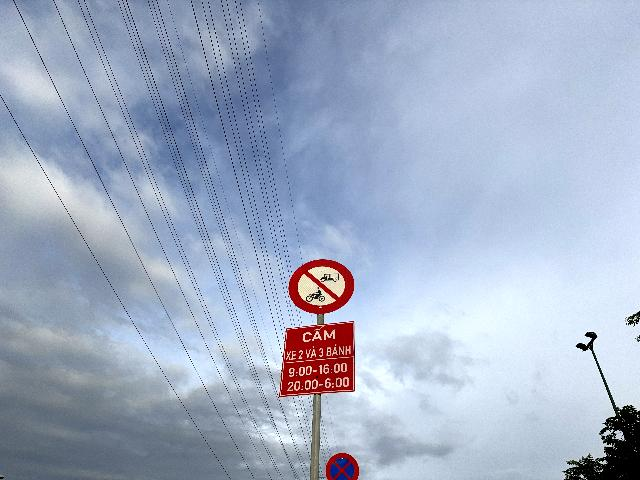cam-xe-2-banh-3-banh: (288, 258, 355, 314)
